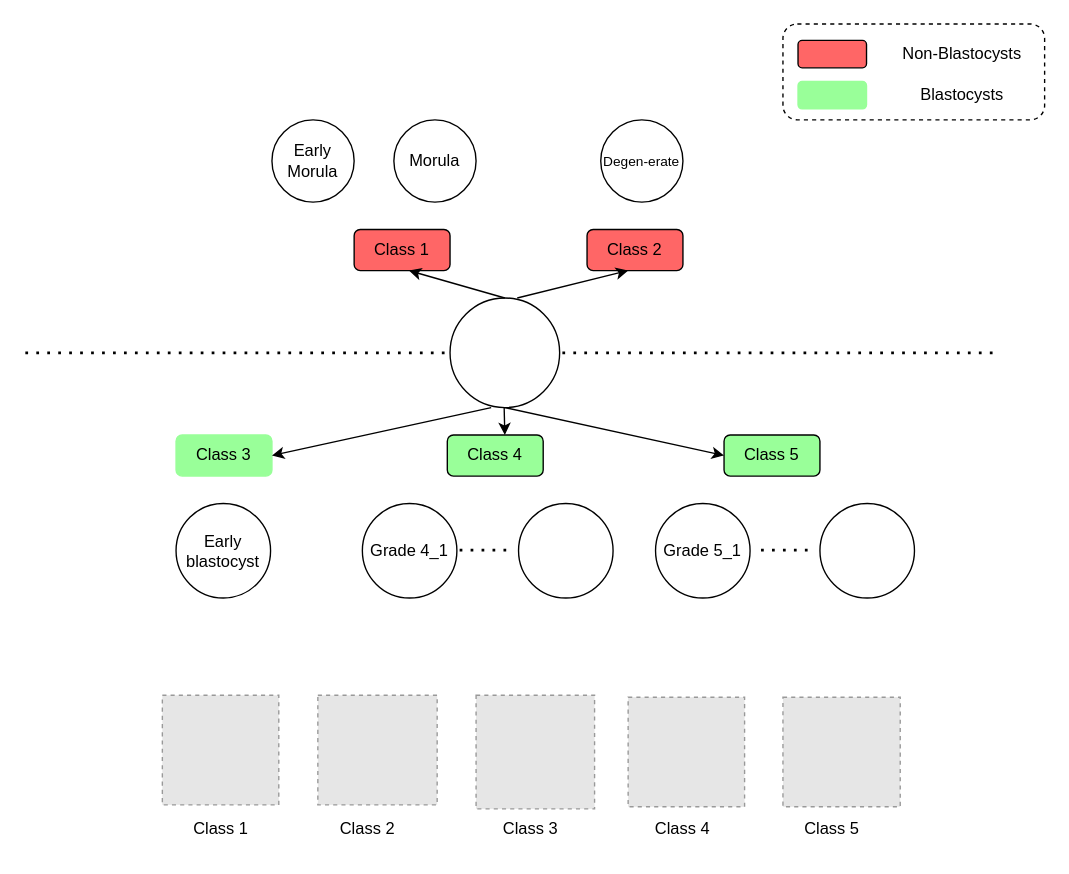
Image size: 1069x874. Some labels were removed from this diagram. Grey dashed boxes stand in for pictures. Here are the shapes that lost their labels. From the top down, the box of each, then its label:
(449, 297, 560, 408): Oocytes
(517, 502, 613, 598): Grade 4_N
(819, 502, 914, 598): Grade 5_N
